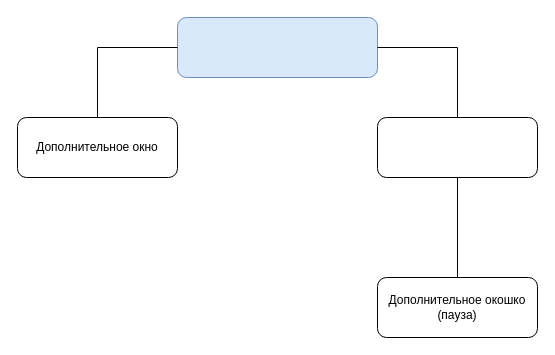
Image size: 555x355. Some labels were removed from this diagram. Here are the shapes that lost their labels. From the top down, the centre of each, then its label:
At (277,47): "Заставочный экран".
At (457,147): "Игровое окно".
